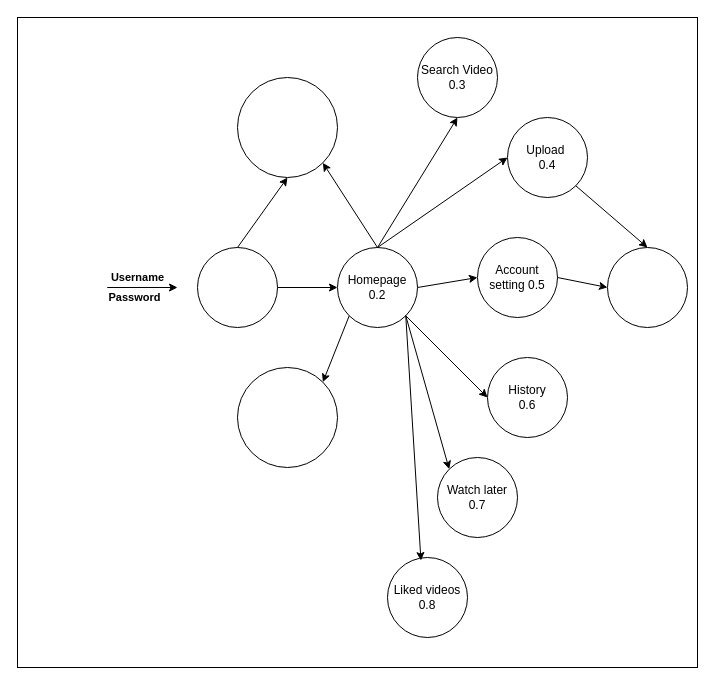
This 715x685 diagram has some shape labels left out. Each missing label, with the box of its shape:
Display select option 0.9: (606, 246, 688, 328)
Login 0.1: (196, 246, 278, 328)
Subscription: (236, 366, 338, 468)
Trending videos: (236, 76, 338, 178)
